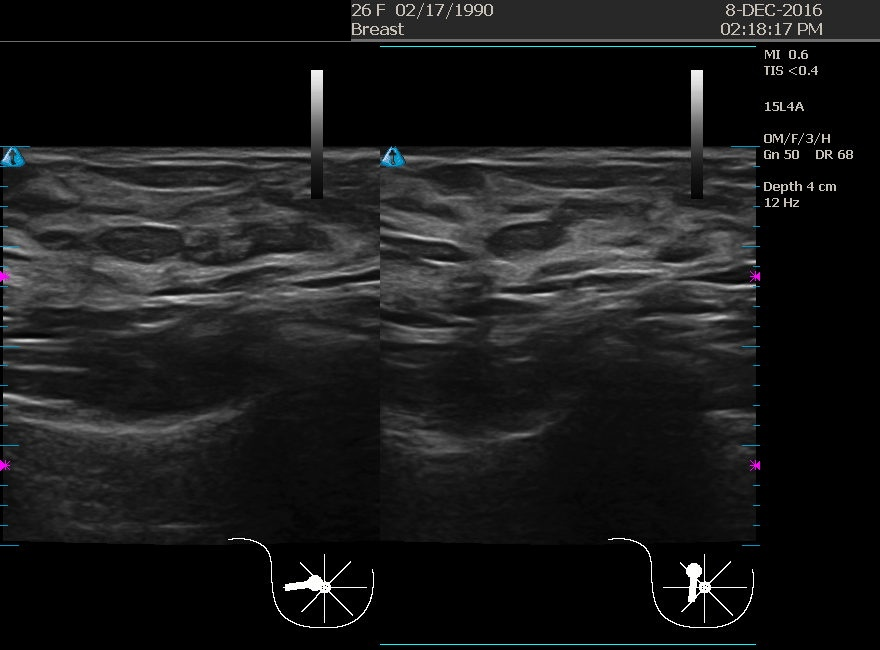BIRADS_2: (469, 209, 669, 409), (31, 152, 231, 352)
